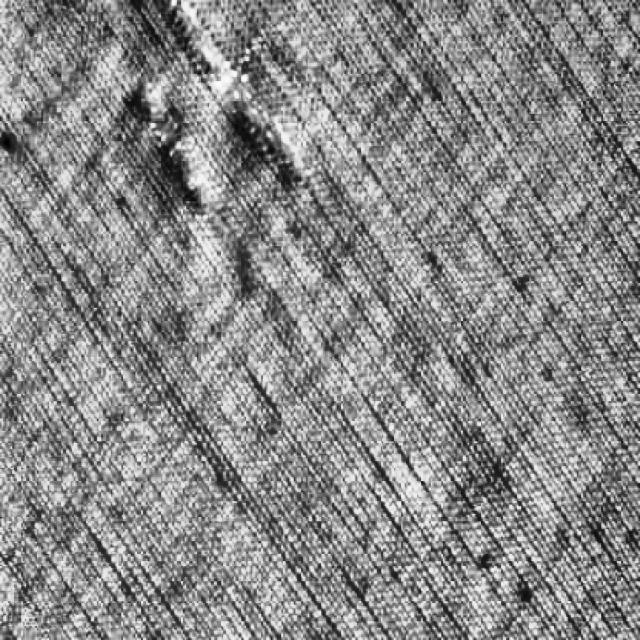thread_error: (157, 0, 315, 223), (126, 65, 223, 242)
